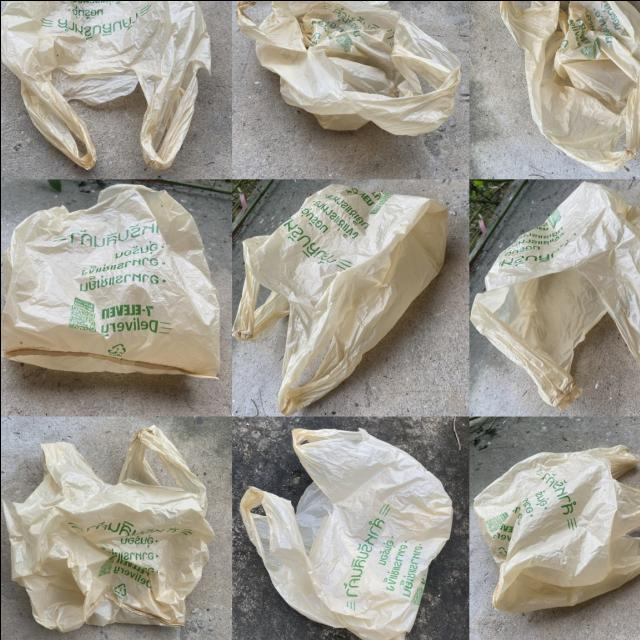plastik: (232, 183, 447, 413), (240, 428, 451, 640), (2, 425, 214, 630), (0, 183, 219, 378), (471, 182, 640, 408), (0, 0, 209, 168), (234, 0, 460, 134), (473, 444, 640, 611), (498, 0, 640, 170)
